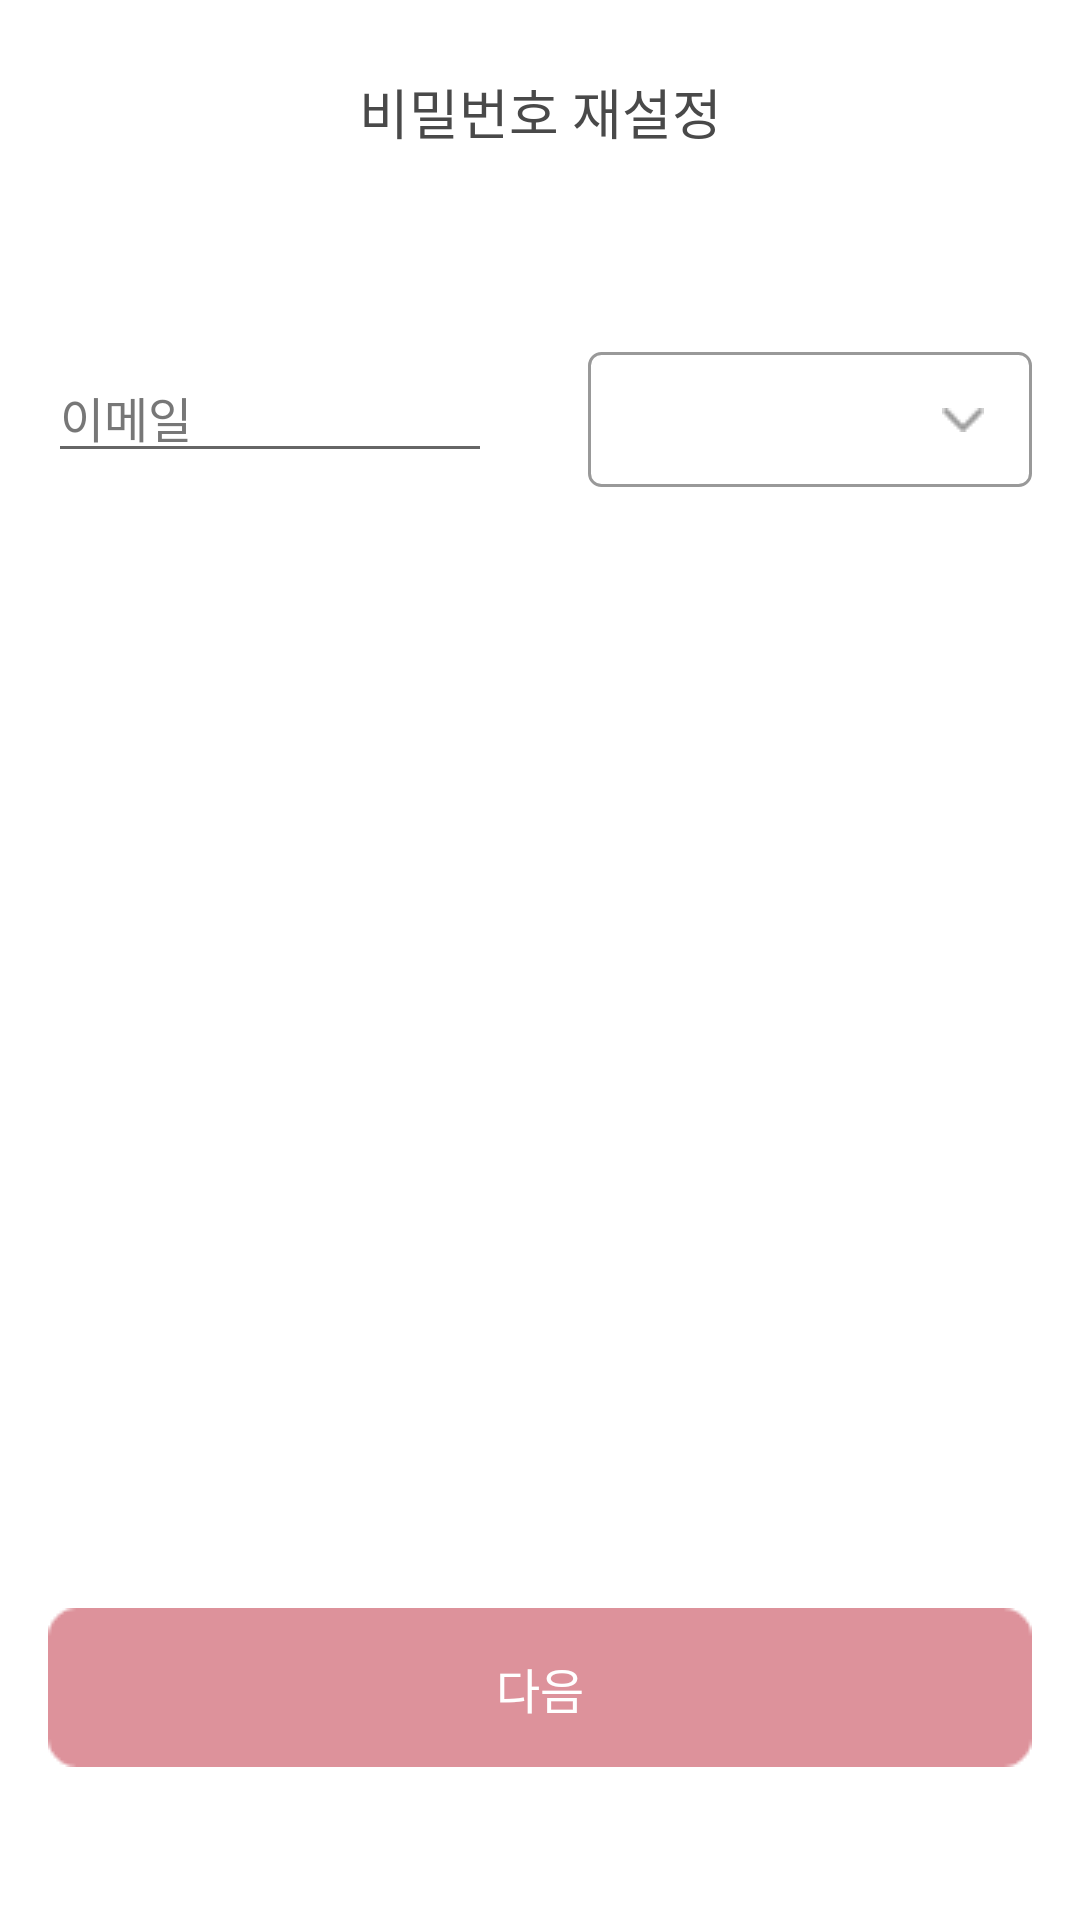

Where to tap for icons on this 1080w x 1920h app screen, as (x,y):
downicon: (963,420)
